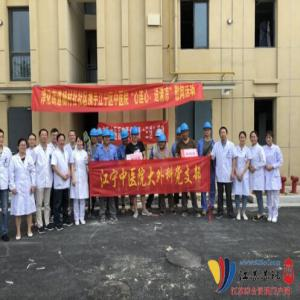blue: (203, 121, 213, 138), (181, 122, 190, 140), (131, 126, 140, 143), (103, 129, 112, 145), (121, 128, 130, 144), (158, 134, 167, 150), (176, 126, 183, 142), (91, 129, 98, 144), (97, 129, 104, 143)
none: (39, 129, 50, 145), (249, 130, 259, 146), (18, 139, 27, 156), (219, 126, 229, 141), (57, 133, 67, 148), (266, 130, 275, 146), (28, 132, 37, 148), (50, 128, 59, 143), (239, 130, 247, 146), (76, 135, 85, 149), (68, 130, 77, 144), (2, 130, 5, 148)
